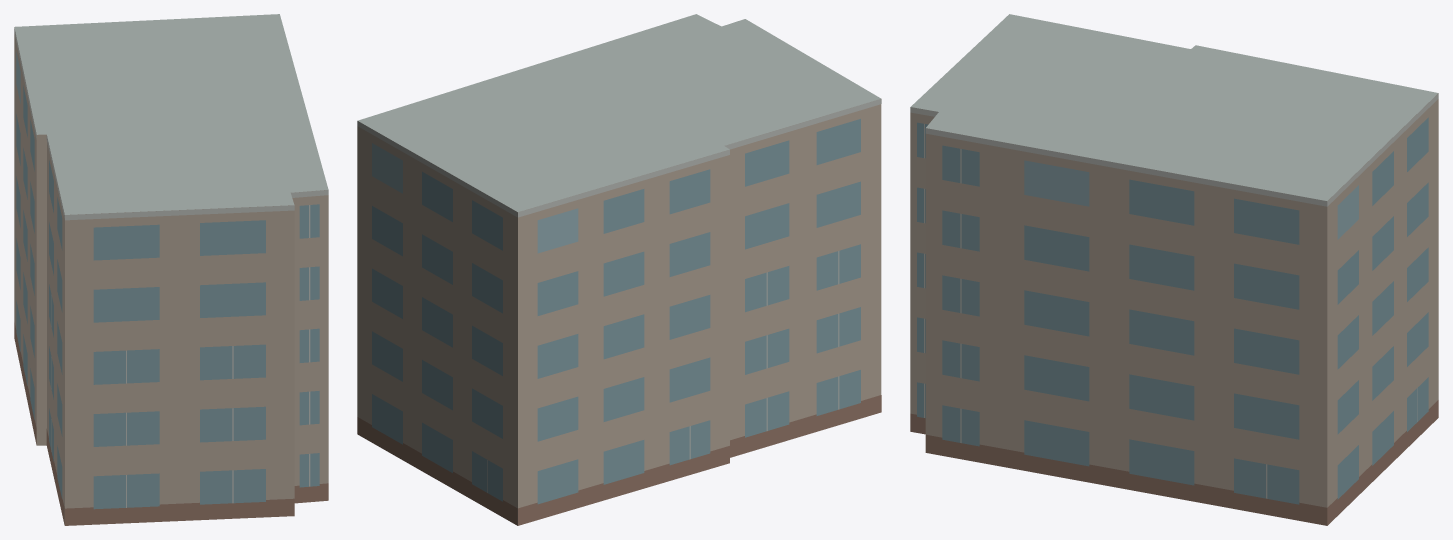
The model's file is survey-upis-33011967.glb.
3 renders of one model, left to right at view 1: azimuth 30°, elevation 25°; view 2: azimuth 150°, elevation 25°; view 3: azimuth 270°, elevation 25°, orthographic. The views are drawn at different scales.
Visible parts, largest first — view 1: survey-upis-33011967.tmp; view 2: survey-upis-33011967.tmp; view 3: survey-upis-33011967.tmp.
Boxes of the visible parts, x1,y1,x2,y2 form: survey-upis-33011967.tmp: (14,14,328,525); survey-upis-33011967.tmp: (357,14,881,525); survey-upis-33011967.tmp: (910,14,1438,525).
Bounding box in the file's own units: 17.5 × 14.15 × 20.87.
